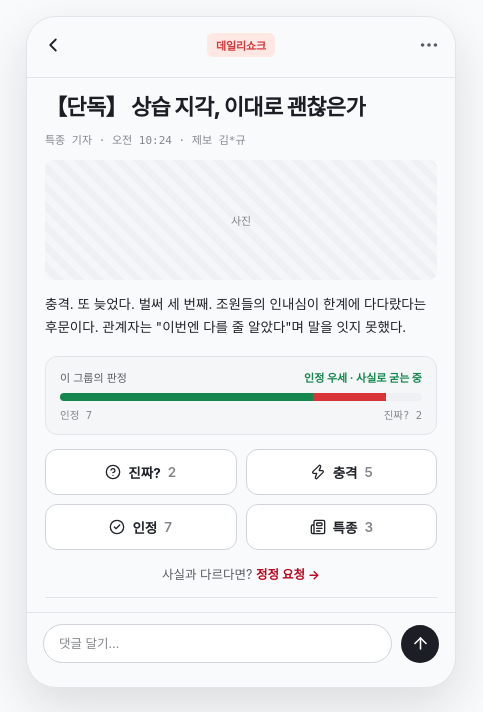
Test case: ArticleDetailPage › 반응을 누르면 카운트가 1 증가한다
The width and height of the screenshot is (483, 712).
Click the button "특종 3" at (341, 527), box x1=246 y1=504 x2=437 y2=550
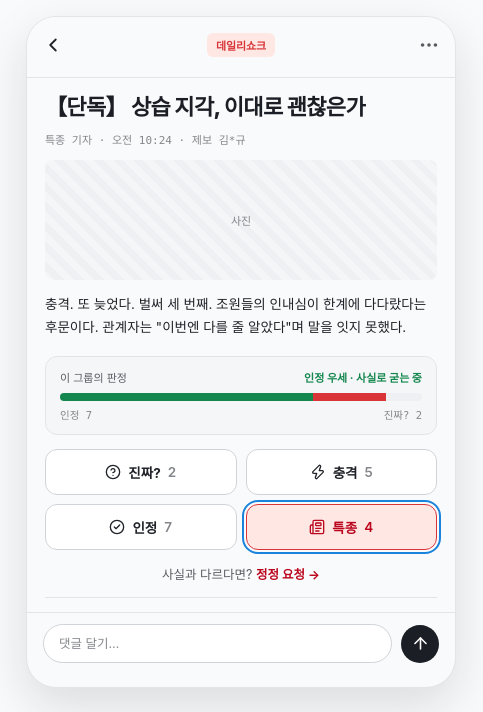
Result: the button "특종 4" is shown at x1=246 y1=504 x2=437 y2=550
